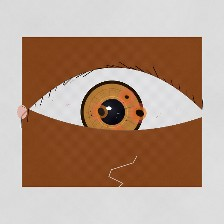foreign_body_visible: (118, 96, 162, 131)
